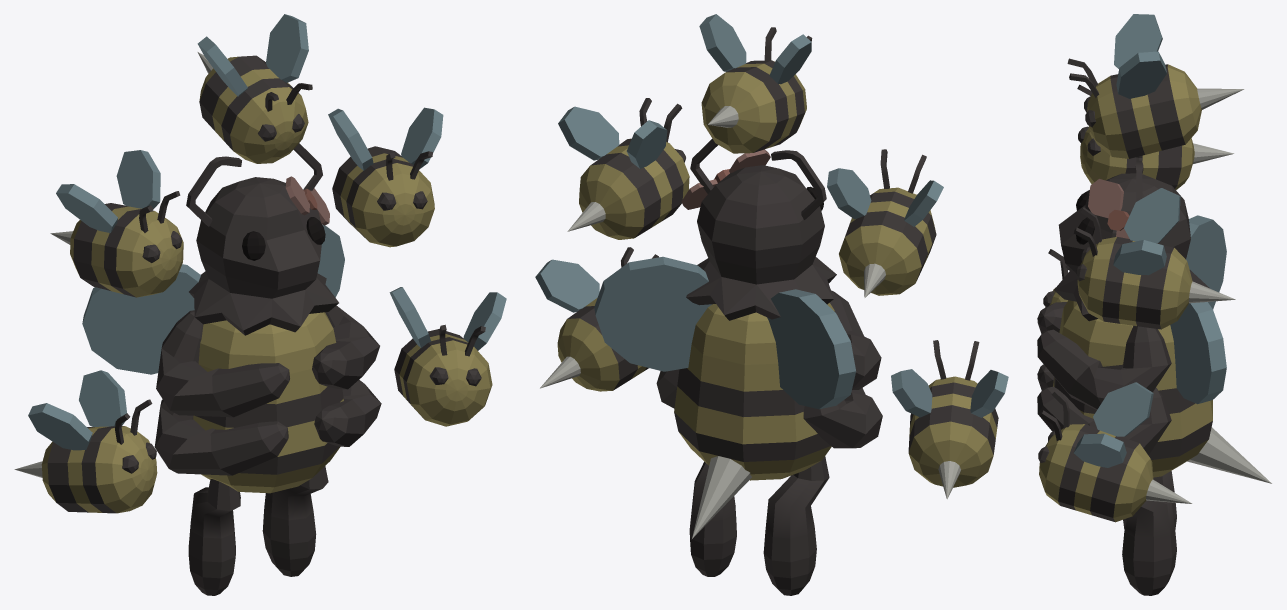
Rendered from Bee_RandomCapt6.fbx.
3 renders of one model, left to right at view 1: azimuth 30°, elevation 25°; view 2: azimuth 150°, elevation 25°; view 3: azimuth 270°, elevation 25°, orthographic. The views are drawn at different scales.
Visible parts, largest first — view 1: RandomCapt_2; view 2: RandomCapt_2; view 3: RandomCapt_2.
Part boxes in pixels (<box>): RandomCapt_2: <box>14,14,506,595</box>; RandomCapt_2: <box>535,14,1008,595</box>; RandomCapt_2: <box>1037,14,1271,595</box>.
Size of the model in its own units: 6.21 by 7.04 by 2.76.
